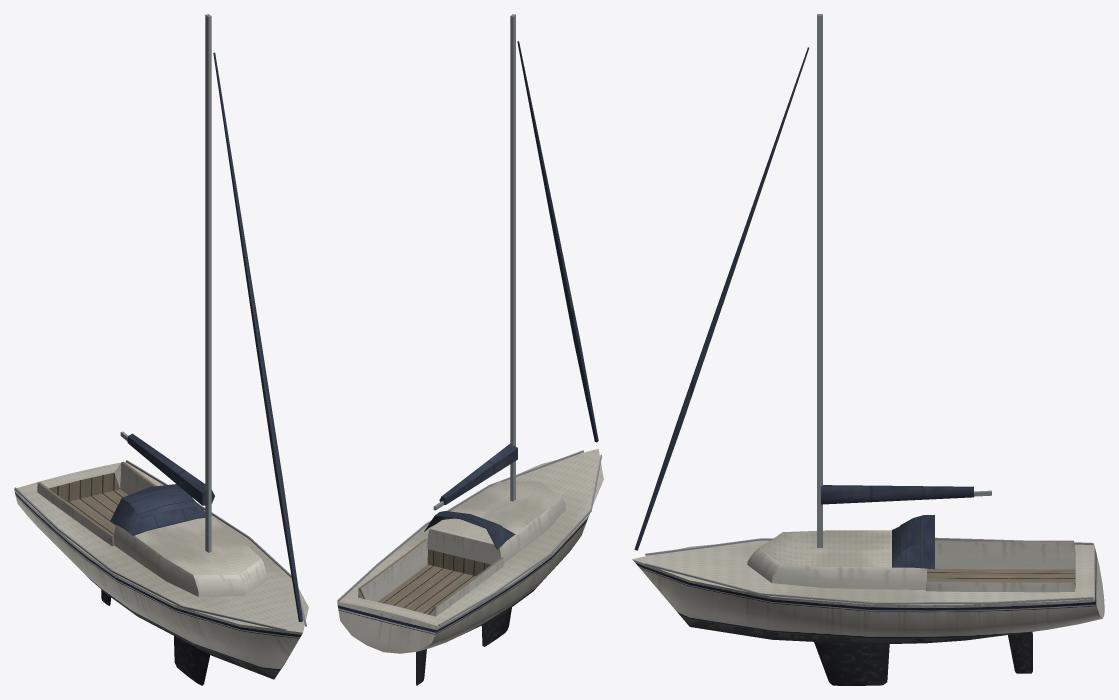
The model's file is sailYacht-a-lod2.glb.
The picture shows the model from 3 angles, left to right: view 1: azimuth 30°, elevation 25°; view 2: azimuth 150°, elevation 25°; view 3: azimuth 270°, elevation 25°; orthographic projection. The views are drawn at different scales.
Parts seen in each view (by area): view 1: Hull, Superstructure, Rig; view 2: Hull, Superstructure, Rig; view 3: Hull, Superstructure, Rig.
Boxes of the visible parts, left/top/right/bottom form: Hull: left=14, top=460, right=308, bottom=685; Superstructure: left=110, top=484, right=266, bottom=596; Rig: left=120, top=14, right=302, bottom=621; Hull: left=337, top=448, right=603, bottom=685; Superstructure: left=424, top=481, right=565, bottom=564; Rig: left=433, top=14, right=598, bottom=510; Hull: left=632, top=537, right=1104, bottom=685; Superstructure: left=747, top=515, right=934, bottom=589; Rig: left=634, top=14, right=991, bottom=550.
Size of the model in its own units: 3.53 by 16.47 by 10.52.
1 material, 1 textured.
